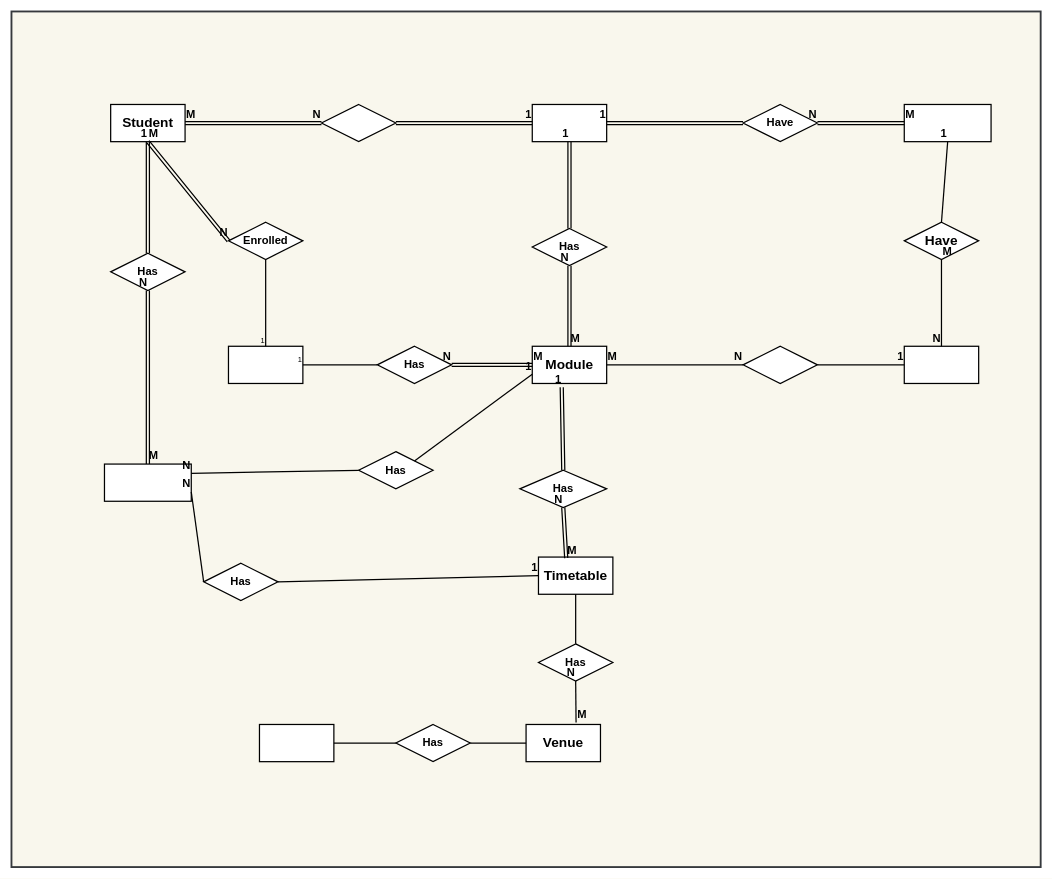
The diagram is 1052 pixels wide and 879 high, and some of its shapes have lost their labels. The centre of each missing label's shape, as x and y in pixels:
Attendance: the point at 148,482
Beacon: the point at 296,743
Belongs: the point at 358,123
Department: the point at 947,123
Enrollment: the point at 265,364
Lecturer: the point at 941,364
Program: the point at 569,123
Teaches: the point at 780,364
